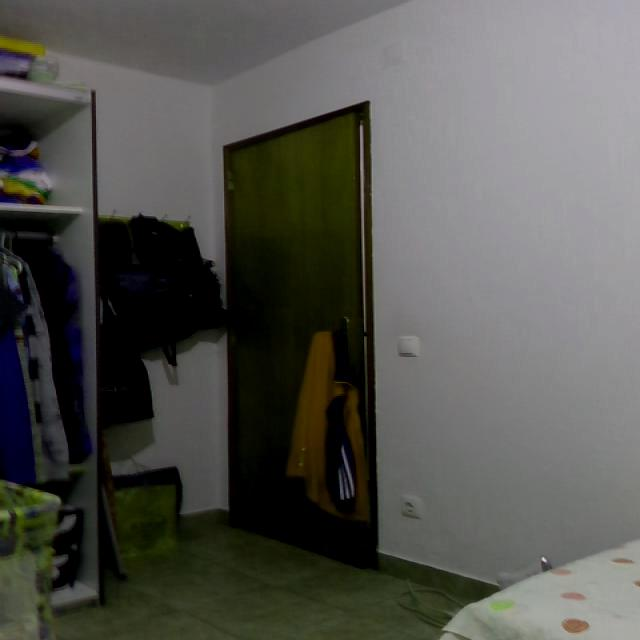door: (217, 96, 396, 577)
